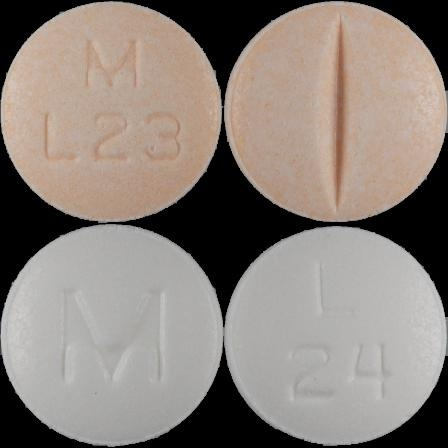0378-2073: (0, 0, 224, 224)
